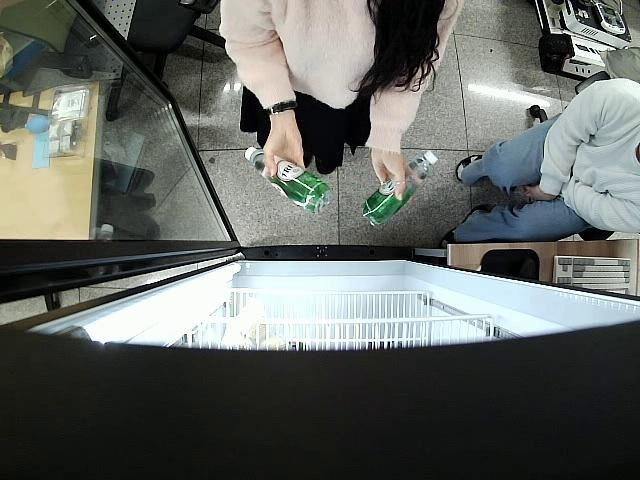18_trevi: (243, 145, 330, 215), (360, 150, 438, 226)
